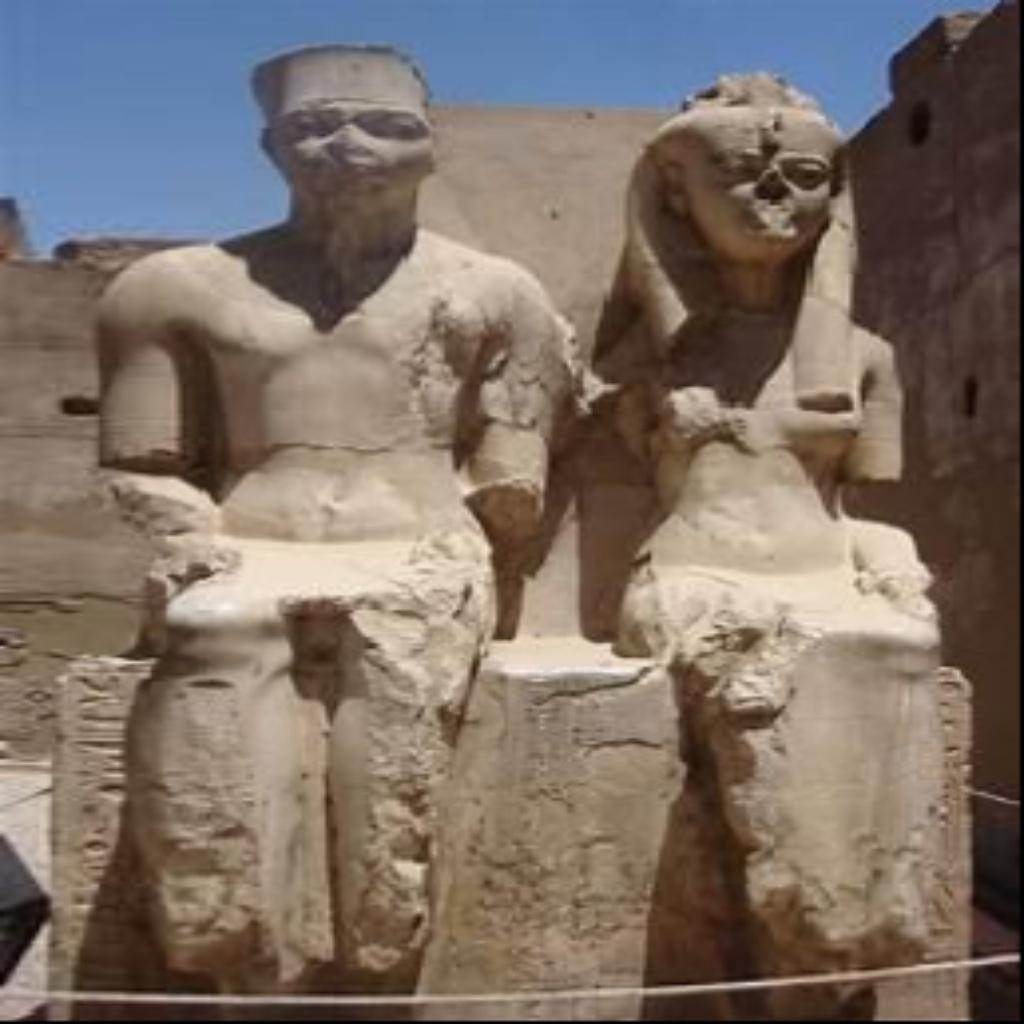Statue of Ankhesenamun: (588, 66, 972, 976)
Statue of Tutankhamun: (88, 36, 560, 982)
